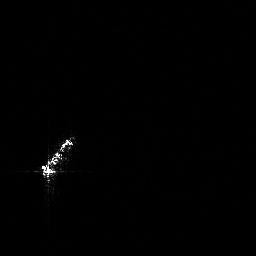ship: (35, 129, 80, 192)
